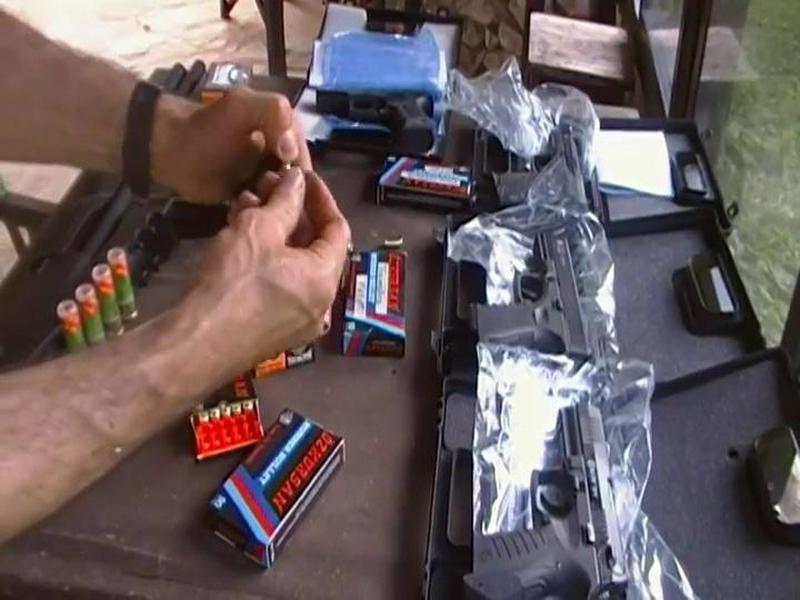Pistola: (445, 398, 639, 600), (438, 225, 620, 374)
